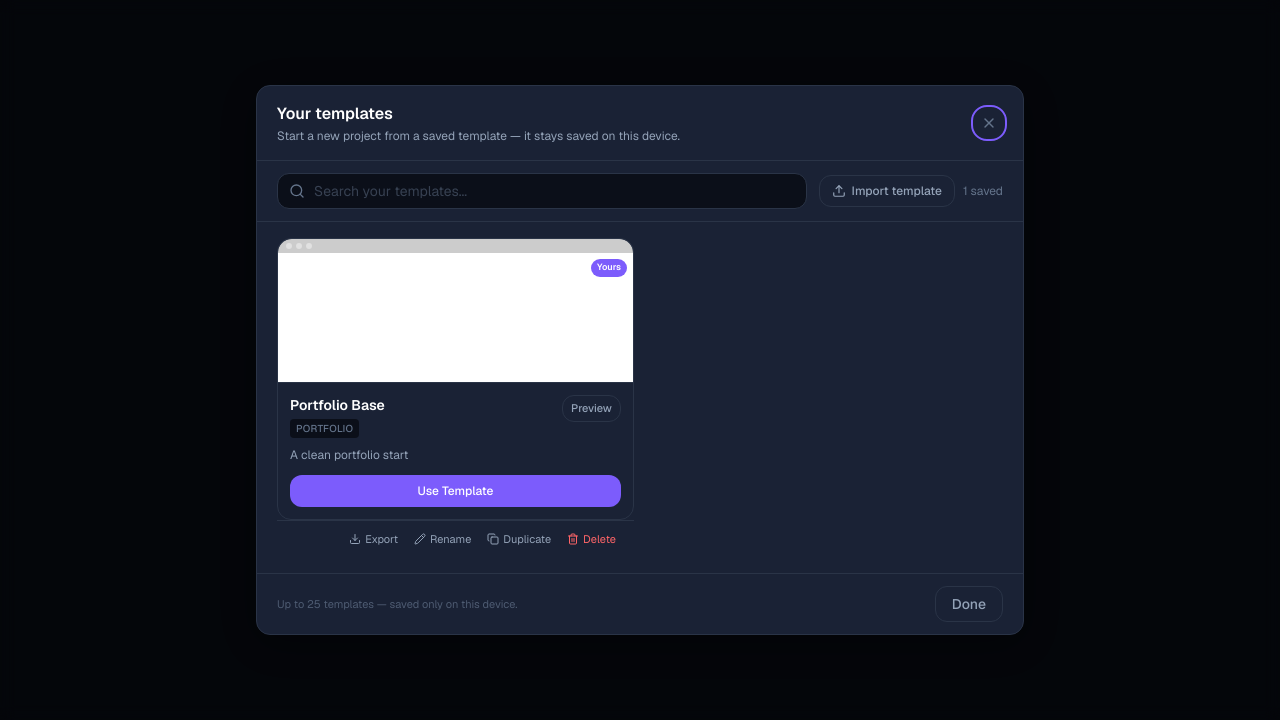
Scenario: PersonalTemplatesPanel › deletes a template after confirmation
Check: the number of elements with test id "personal-template-card" is 1, box [277, 238, 634, 557]
Click the button with aria-label "Delete Portfolio Base": (592, 539) [561, 527, 622, 551]
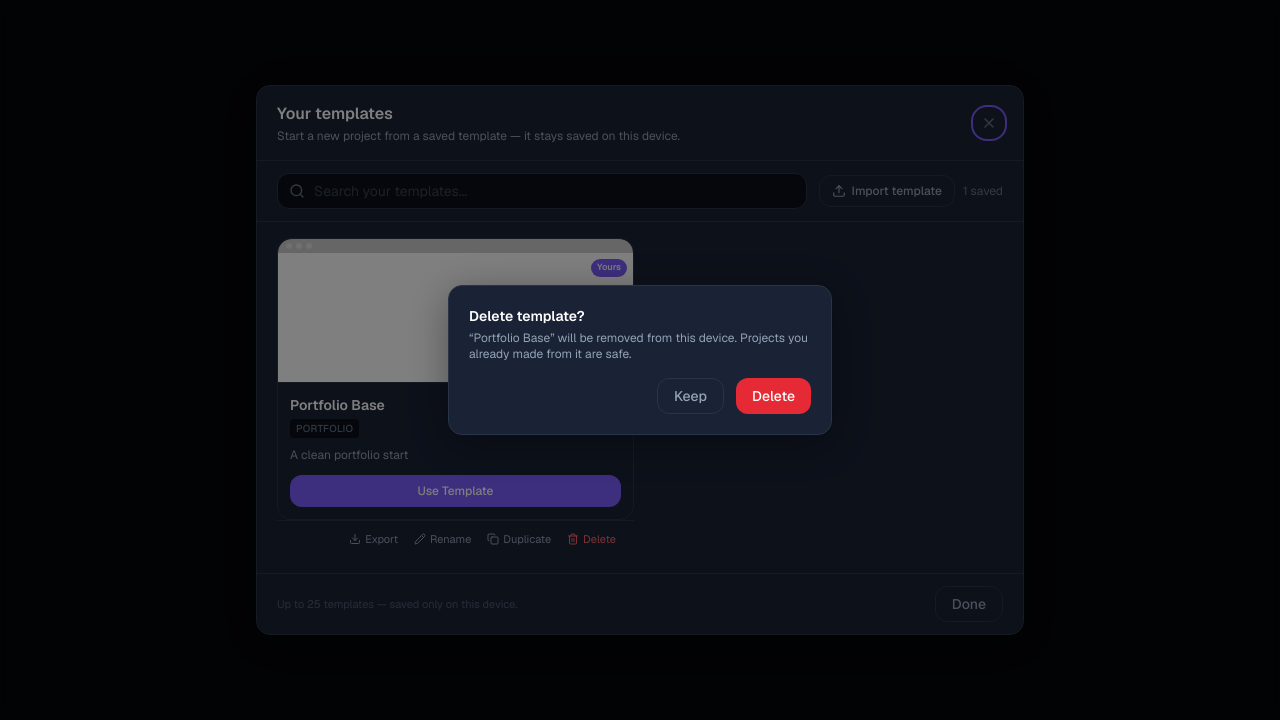
Click the button "Delete": (773, 396) [736, 378, 811, 414]
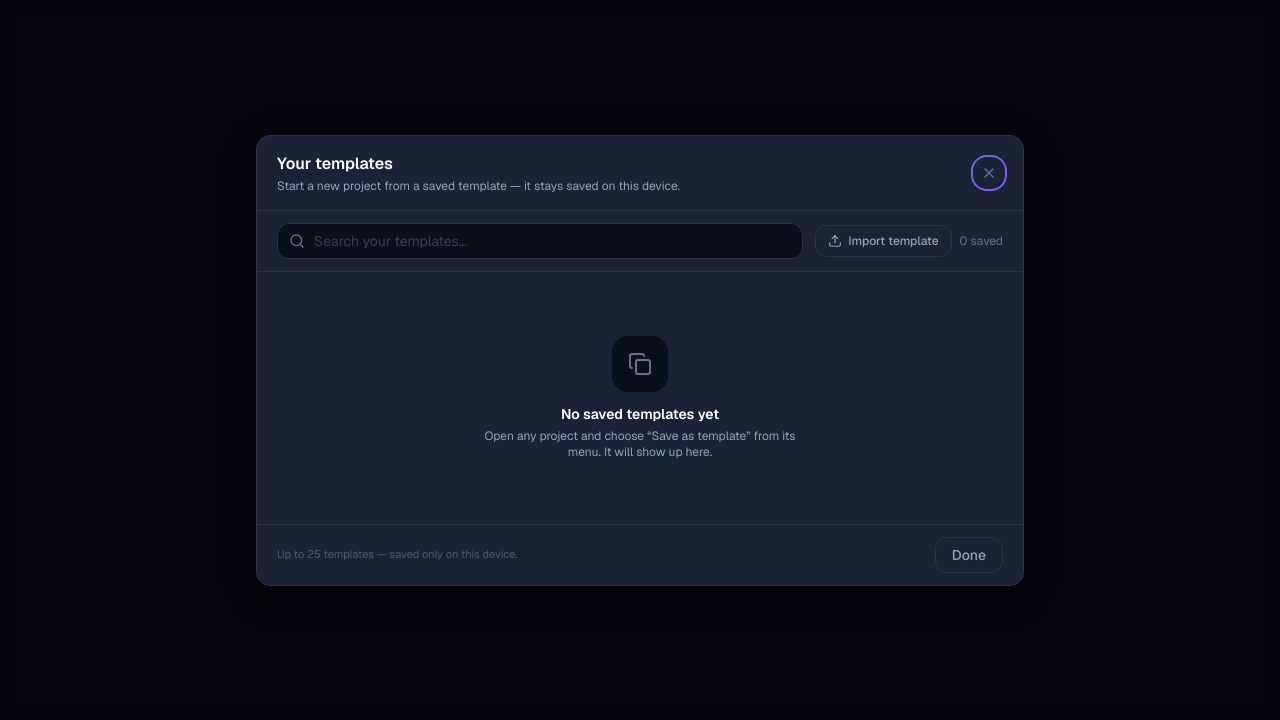
Check: the heading "No saved templates yet" is shown, box [561, 404, 719, 424]
